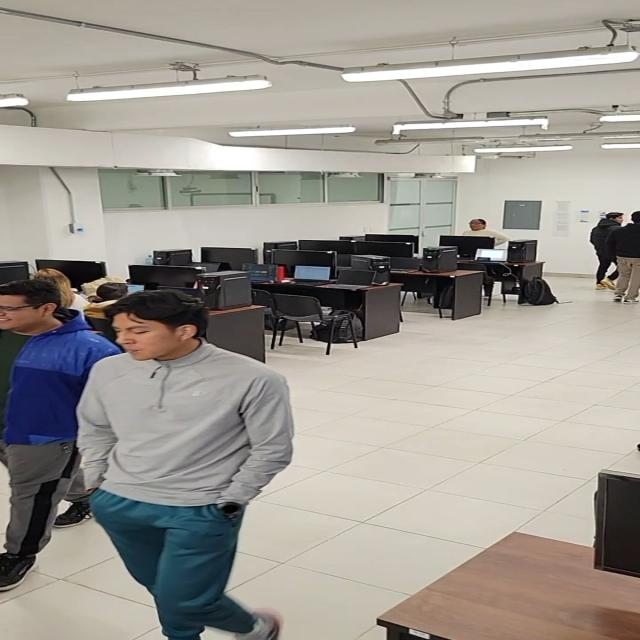Persona: (78, 289, 296, 640), (0, 280, 123, 593), (607, 208, 640, 304), (588, 212, 624, 292)
